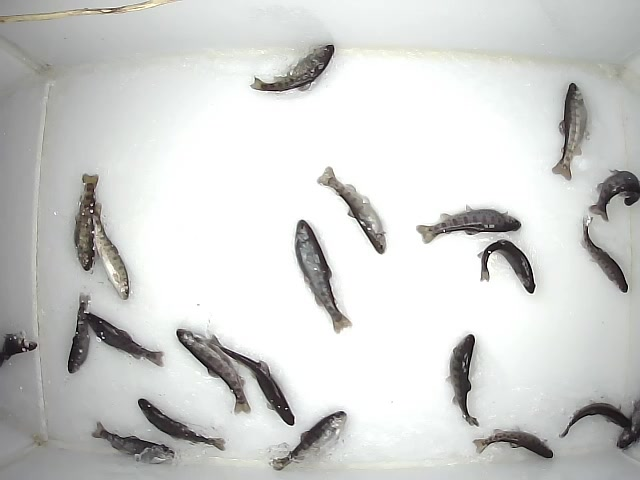fish: (206, 332, 296, 427), (291, 217, 354, 335), (174, 326, 254, 417), (314, 166, 387, 256), (137, 396, 228, 453), (270, 408, 348, 470), (83, 312, 166, 368), (414, 204, 522, 244), (579, 212, 631, 295), (249, 44, 336, 93), (549, 81, 591, 181), (89, 419, 177, 465), (91, 202, 130, 301), (444, 332, 480, 428), (553, 399, 633, 442), (476, 239, 535, 294), (585, 167, 640, 222), (472, 425, 555, 461), (72, 173, 99, 273), (62, 291, 94, 375), (616, 400, 640, 451)
